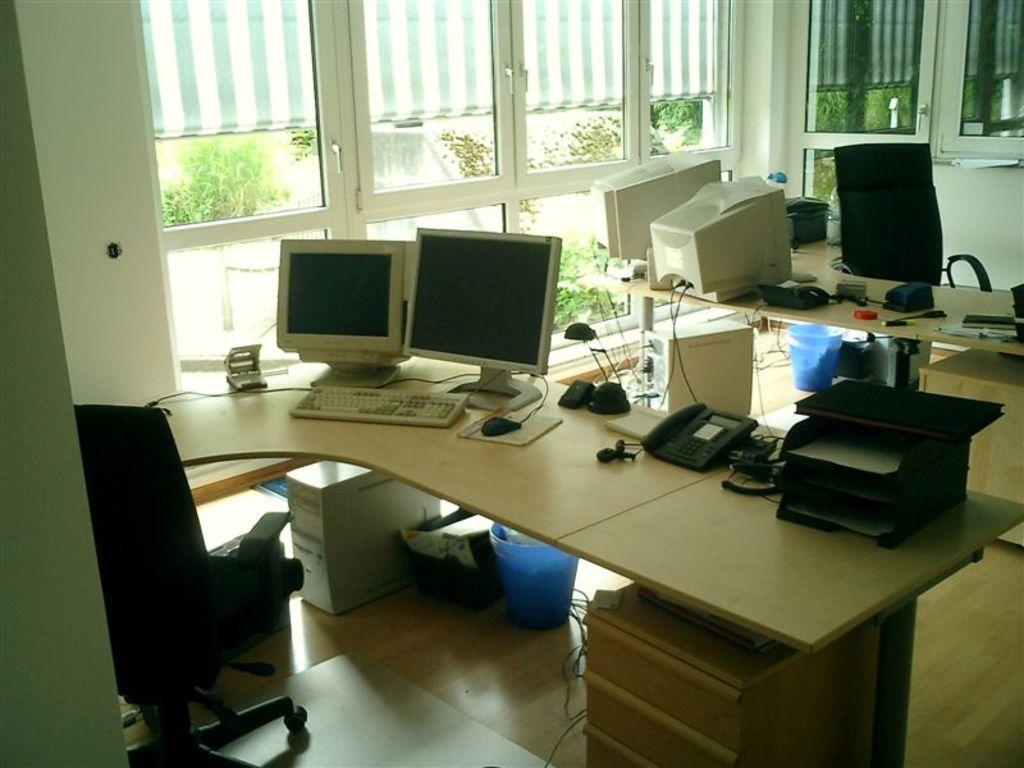Chair: (72, 402, 308, 766), (832, 141, 991, 291)
Computer-keyboard: (289, 383, 471, 428)
Computer-monitor: (402, 224, 562, 410)
